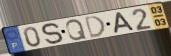0: (22, 25, 43, 48)
2: (131, 7, 153, 32)
A: (114, 11, 136, 35)
D: (84, 14, 107, 40)
Q: (65, 18, 88, 42)
S: (41, 22, 65, 46)
